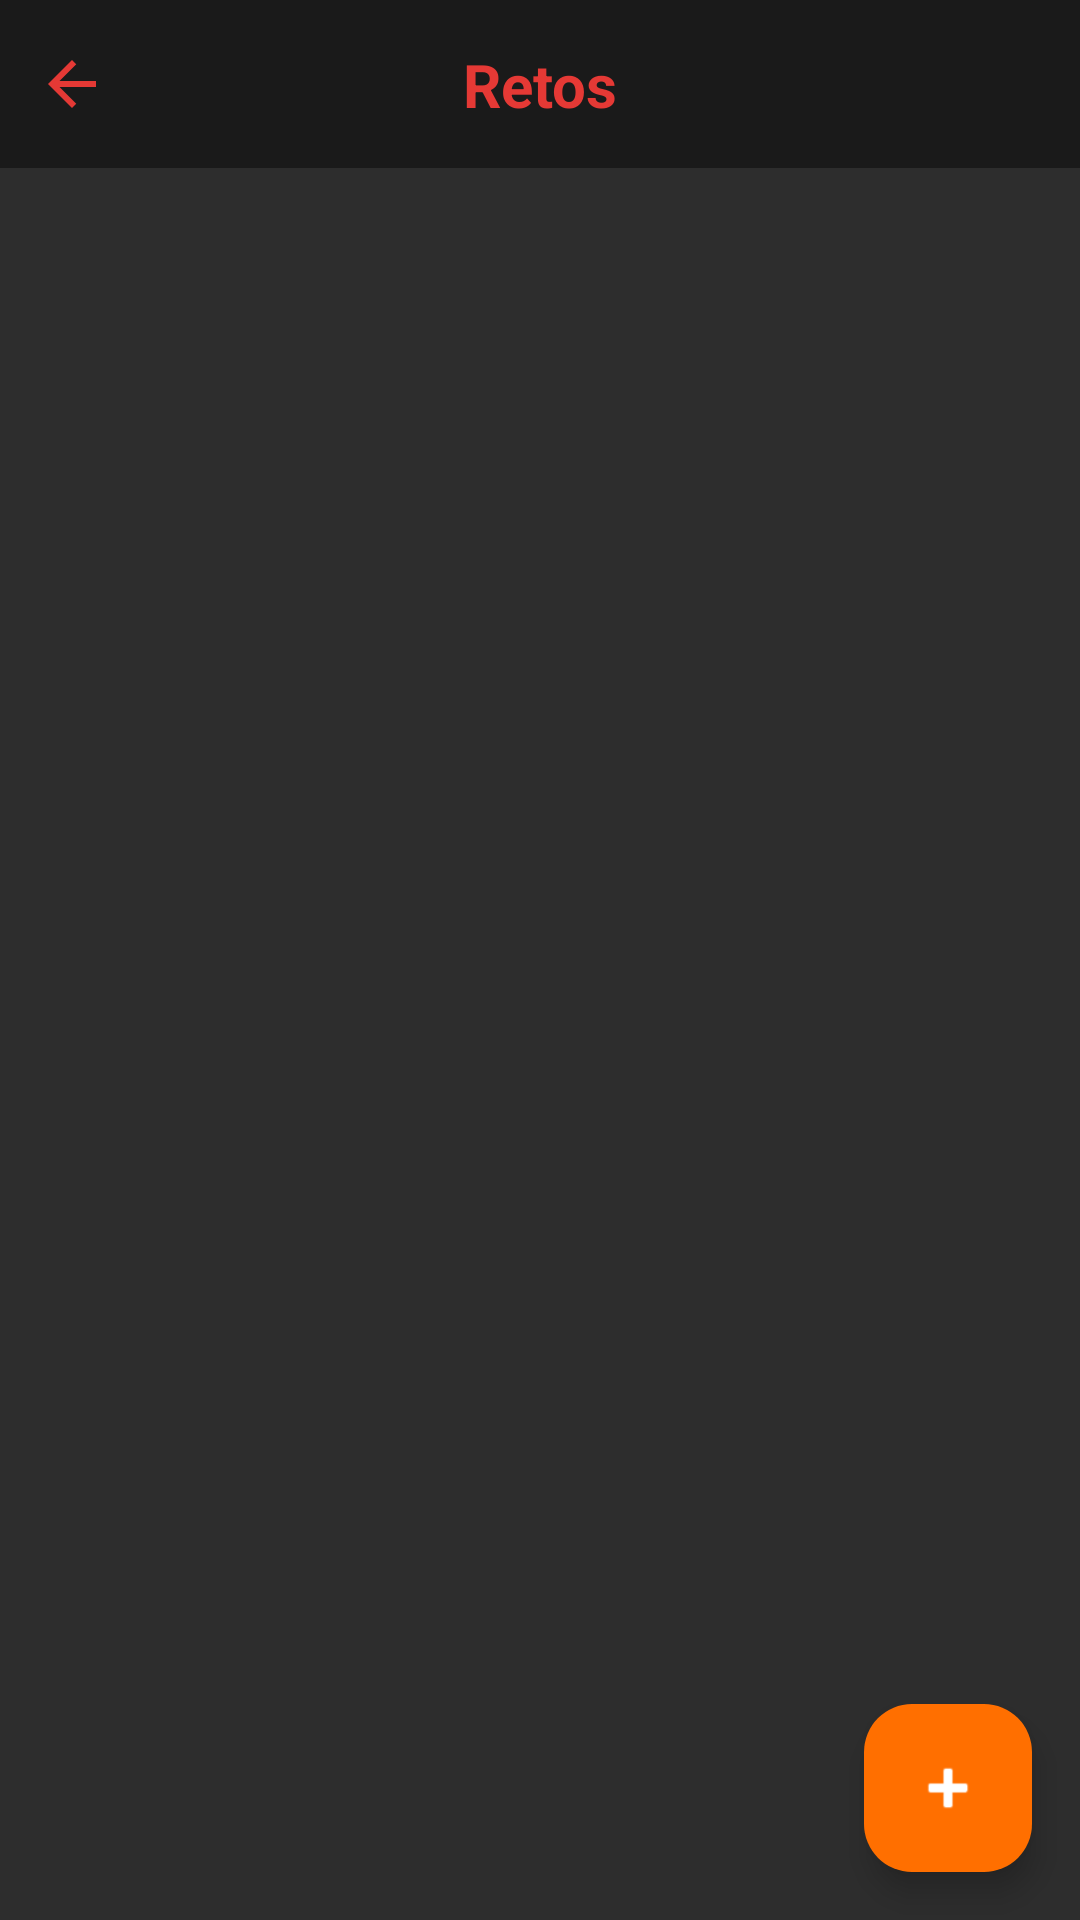

Point at icon controls on the screen. Image size 1080px×1920px, points as point (x, y).
Agregar reto: point (948, 1788)
Volver: point (72, 84)
